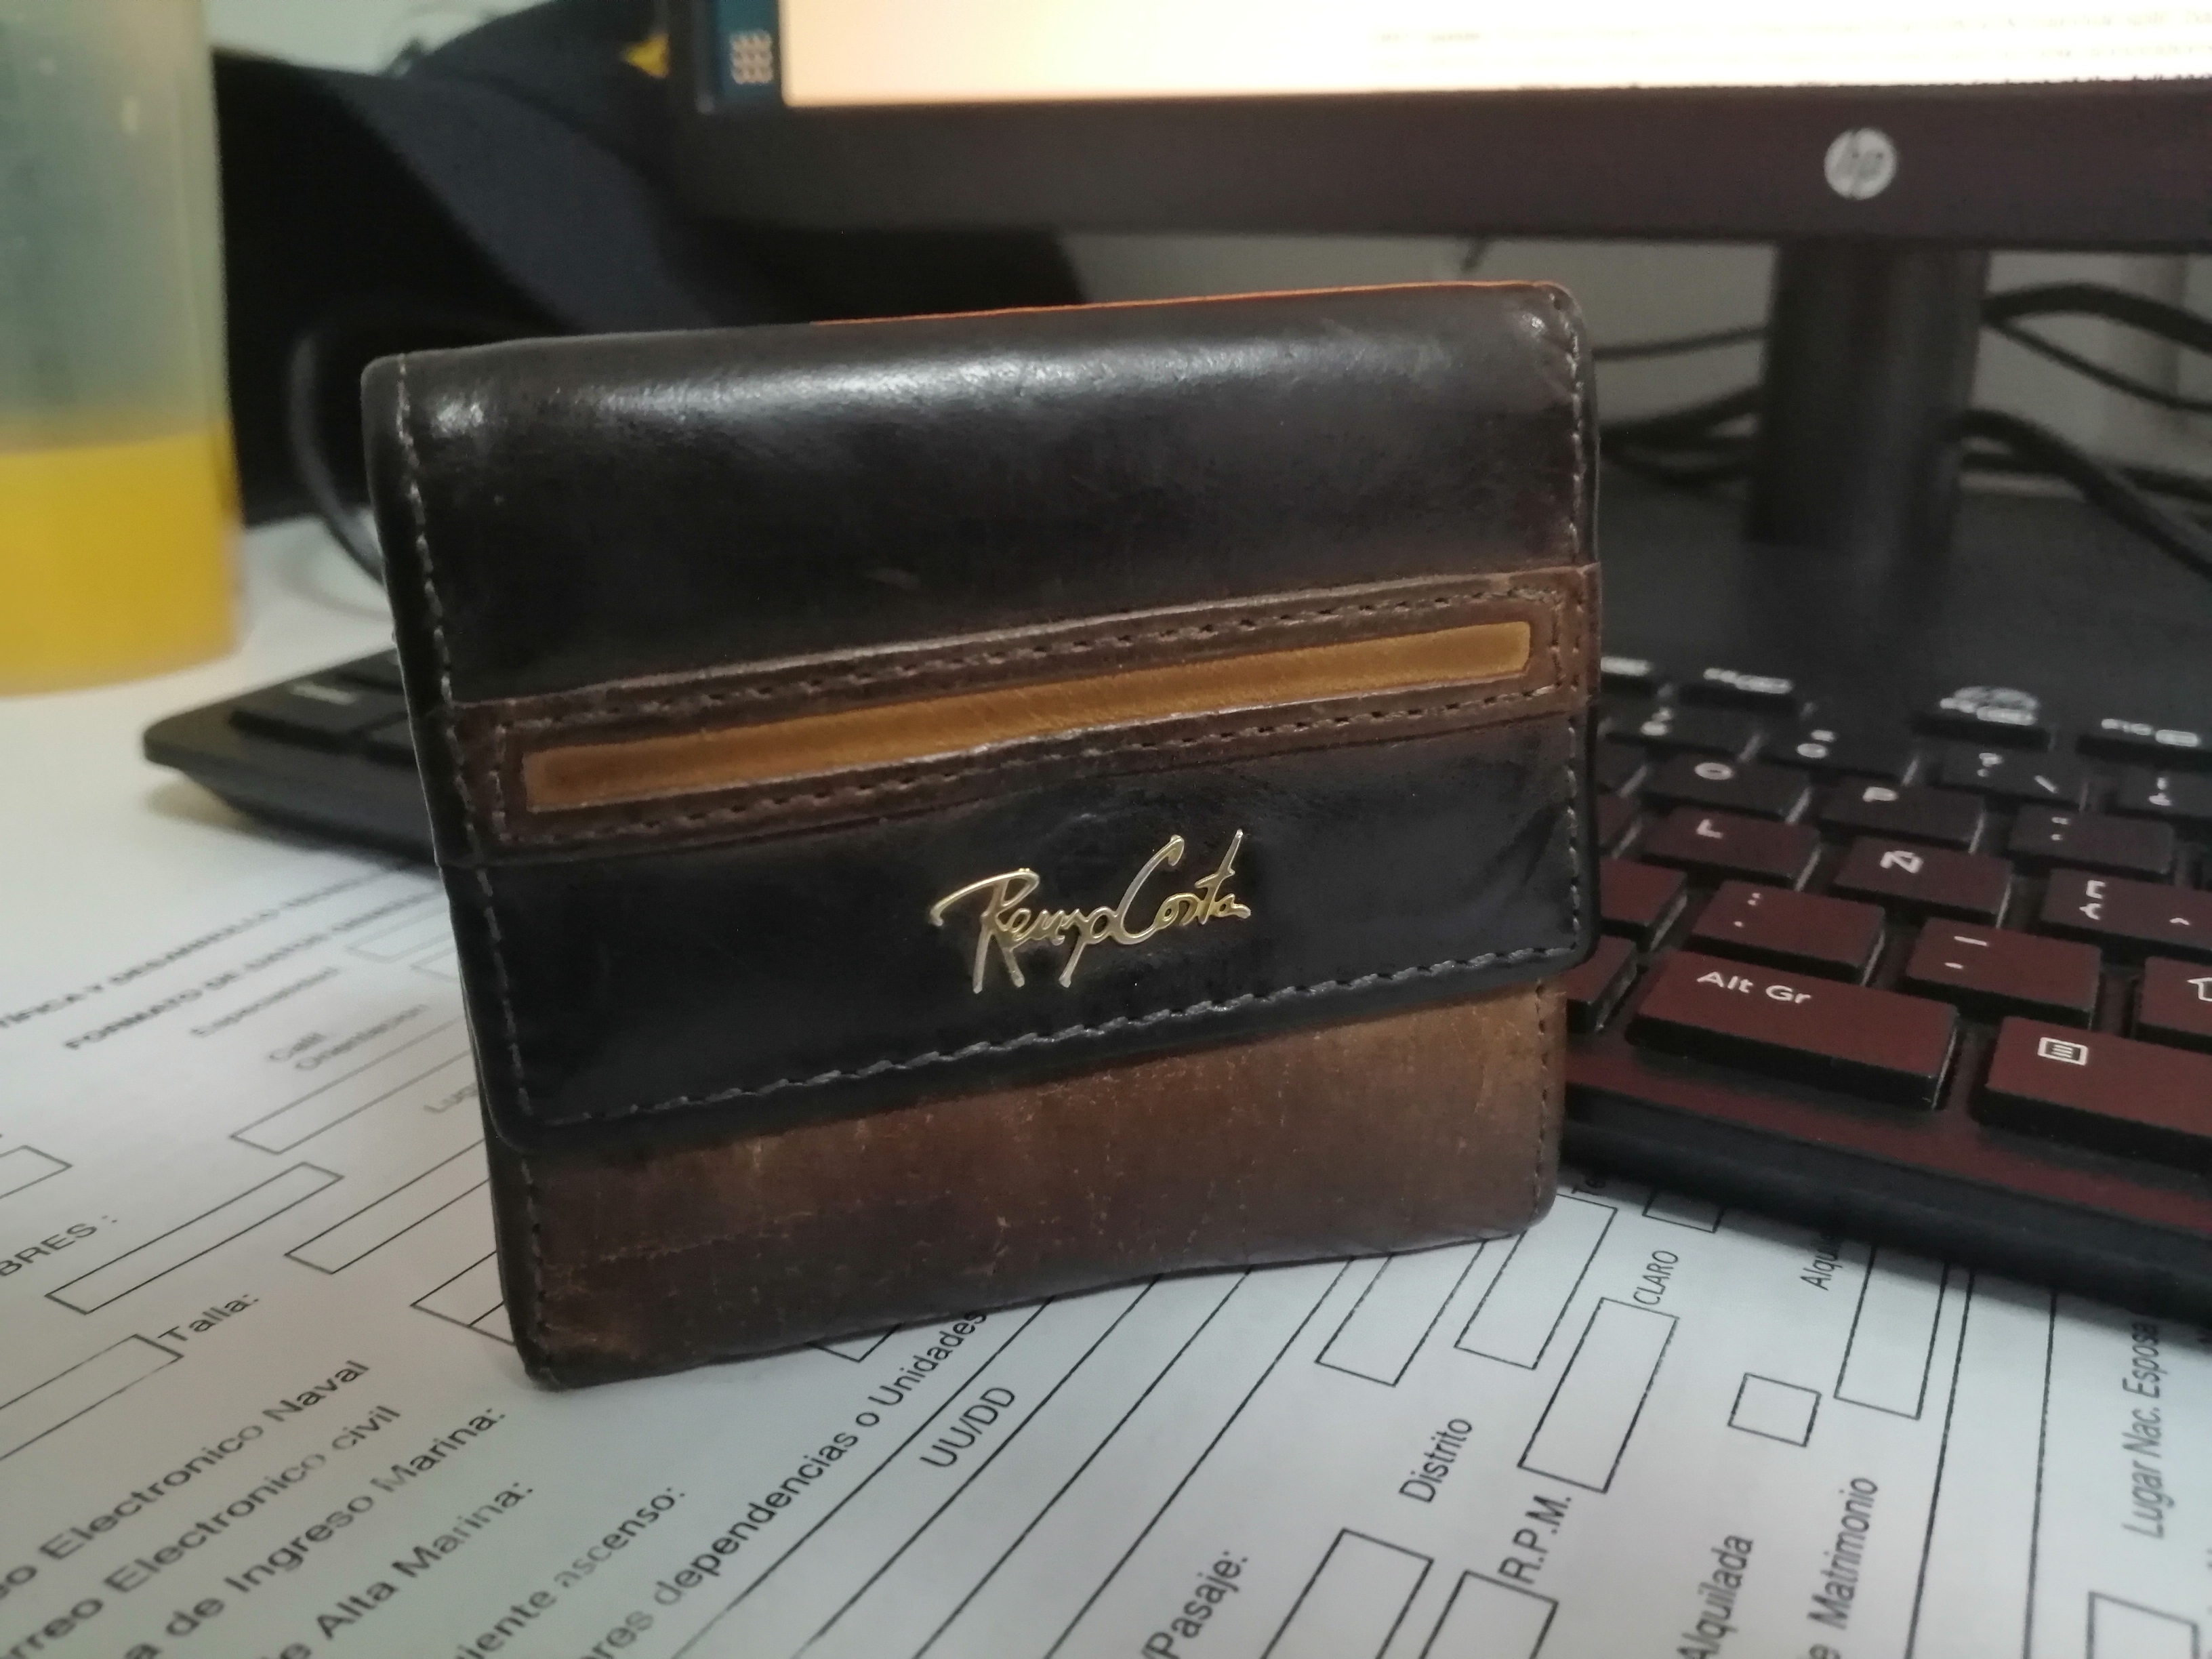monedero: (315, 265, 1635, 1408)
